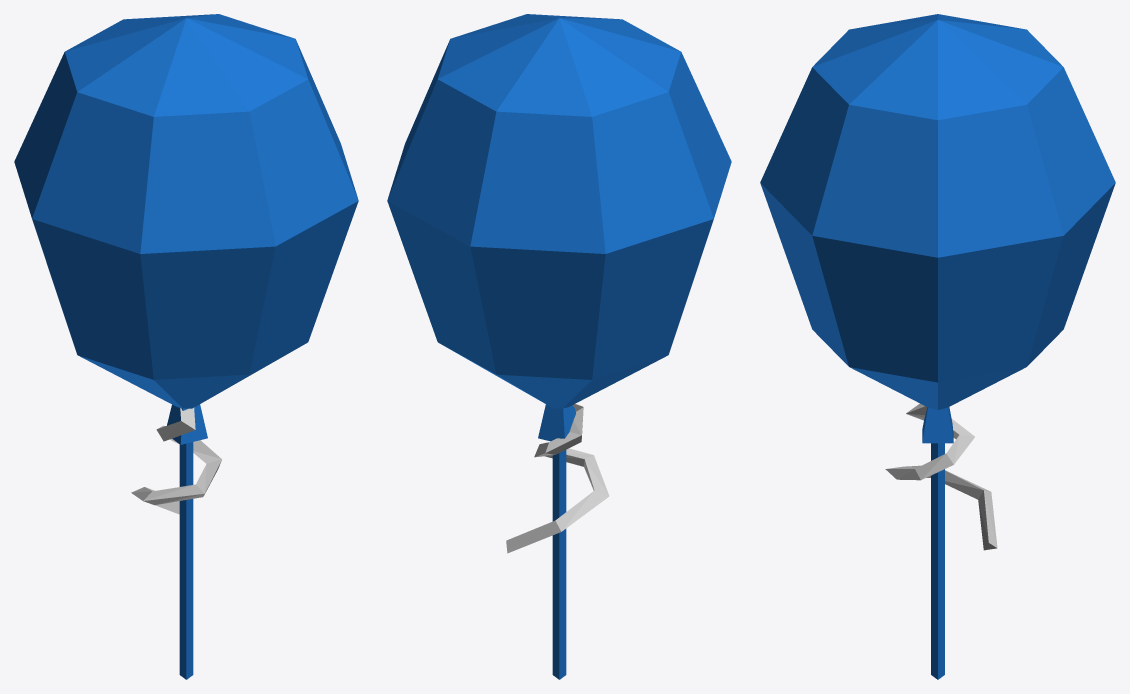
The model's file is SM_ball.fbx.
3 renders of one model, left to right at view 1: azimuth 30°, elevation 25°; view 2: azimuth 150°, elevation 25°; view 3: azimuth 270°, elevation 25°, orthographic.
Visible parts, largest first — view 1: Sweep, Cylinder_1; view 2: Sweep, Cylinder_1; view 3: Sweep, Cylinder_1.
Part boxes in pixels (x1,y1,x2,y2): Sweep: [14, 14, 358, 514]; Cylinder_1: [179, 442, 193, 679]; Sweep: [387, 14, 731, 553]; Cylinder_1: [552, 450, 566, 679]; Sweep: [760, 14, 1115, 550]; Cylinder_1: [931, 443, 944, 679].
Size of the model in its own units: 31.64 by 64.44 by 31.64.
